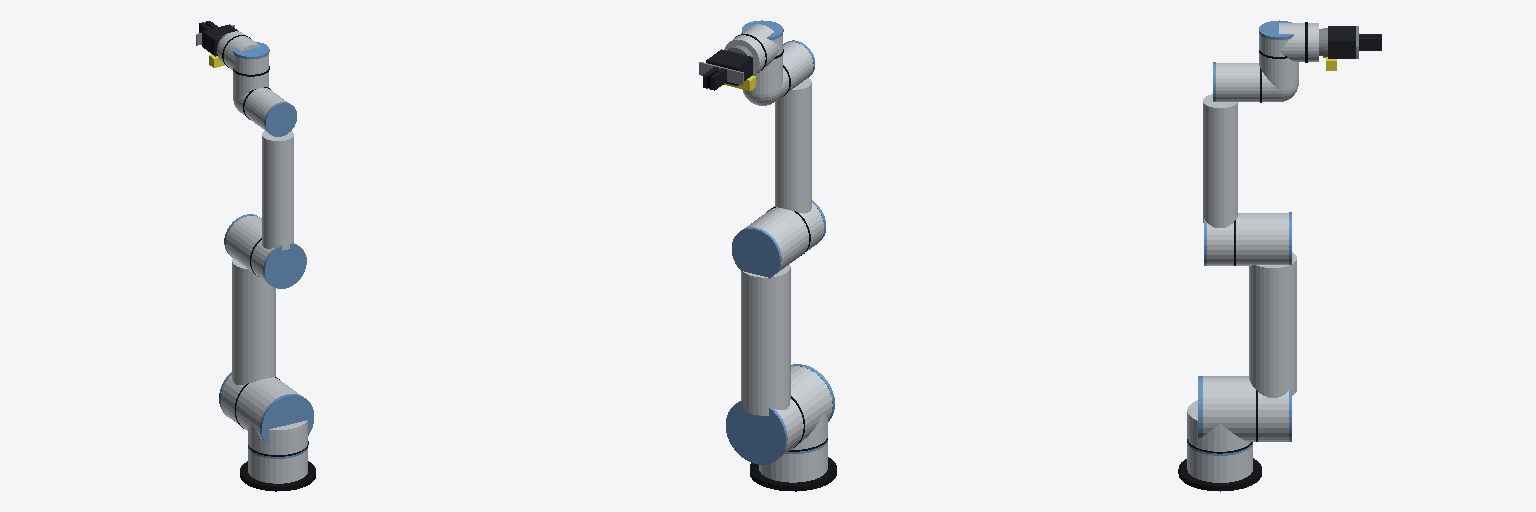
URDF robot description (nora_arm):
<?xml version="1.0"?>
<!--
  NORA arm - UR5e-style 6-DOF manipulator for the web digital twin.

  Kinematics follow the UR5e (d1 = 0.1625, a2 = 0.425, a3 = 0.3922,
  d4 = 0.1333, d5 = 0.0997, d6 = 0.0996) but are expressed in a
  "straight-up" zero pose: with every joint at 0 the arm points vertically
  and the tool flange faces sideways (+Y).

    joint1  shoulder pan   (Z)
    joint2  shoulder lift  (Y)
    joint3  elbow          (Y)
    joint4  wrist 1        (Y)
    joint5  wrist 2        (Z, along wrist link)
    joint6  wrist 3        (tool roll)
    gripper_joint          finger stroke (0 = closed, 0.085 = fully open)

  Top-down tool pose: joint2 + joint3 + joint4 = pi/2 and joint5 = -pi/2.
  Geometry is primitive-only (no meshes) so it loads anywhere.
-->
<robot name="nora_arm">
  <material name="ur_aluminium"><color rgba="0.80 0.82 0.84 1.0"/></material>
  <material name="ur_cap"><color rgba="0.45 0.62 0.80 1.0"/></material>
  <material name="ur_seal"><color rgba="0.10 0.11 0.12 1.0"/></material>
  <material name="steel"><color rgba="0.55 0.57 0.60 1.0"/></material>
  <material name="gripper_body"><color rgba="0.16 0.17 0.19 1.0"/></material>
  <material name="gripper_pad"><color rgba="0.06 0.06 0.07 1.0"/></material>

  <!-- ============================ Base ============================ -->
  <link name="base_link">
    <!-- mounting plate -->
    <visual>
      <origin xyz="0 0 0.006" rpy="0 0 0"/>
      <geometry><cylinder radius="0.095" length="0.012"/></geometry>
      <material name="ur_seal"/>
    </visual>
    <!-- base housing -->
    <visual>
      <origin xyz="0 0 0.046" rpy="0 0 0"/>
      <geometry><cylinder radius="0.075" length="0.068"/></geometry>
      <material name="ur_aluminium"/>
    </visual>
    <!-- base joint cap ring -->
    <visual>
      <origin xyz="0 0 0.083" rpy="0 0 0"/>
      <geometry><cylinder radius="0.0755" length="0.006"/></geometry>
      <material name="ur_cap"/>
    </visual>
    <collision>
      <origin xyz="0 0 0.043" rpy="0 0 0"/>
      <geometry><cylinder radius="0.095" length="0.086"/></geometry>
    </collision>
  </link>

  <joint name="joint1" type="revolute">
    <parent link="base_link"/>
    <child link="link1"/>
    <origin xyz="0 0 0.086" rpy="0 0 0"/>
    <axis xyz="0 0 1"/>
    <limit lower="-6.2832" upper="6.2832" effort="150.0" velocity="3.14"/>
  </joint>

  <!-- ====================== Shoulder (link1) ====================== -->
  <link name="link1">
    <!-- seal ring between base and shoulder -->
    <visual>
      <origin xyz="0 0 0.002" rpy="0 0 0"/>
      <geometry><cylinder radius="0.076" length="0.004"/></geometry>
      <material name="ur_seal"/>
    </visual>
    <!-- vertical shoulder drum -->
    <visual>
      <origin xyz="0 0 0.0383" rpy="0 0 0"/>
      <geometry><cylinder radius="0.075" length="0.0685"/></geometry>
      <material name="ur_aluminium"/>
    </visual>
    <!-- horizontal shoulder-lift motor drum -->
    <visual>
      <origin xyz="0 0.020 0.0765" rpy="1.5708 0 0"/>
      <geometry><cylinder radius="0.075" length="0.12"/></geometry>
      <material name="ur_aluminium"/>
    </visual>
    <!-- shoulder-lift end cap -->
    <visual>
      <origin xyz="0 -0.045 0.0765" rpy="1.5708 0 0"/>
      <geometry><cylinder radius="0.0755" length="0.010"/></geometry>
      <material name="ur_cap"/>
    </visual>
    <collision>
      <origin xyz="0 0.020 0.0765" rpy="1.5708 0 0"/>
      <geometry><cylinder radius="0.075" length="0.13"/></geometry>
    </collision>
  </link>

  <joint name="joint2" type="revolute">
    <parent link="link1"/>
    <child link="link2"/>
    <origin xyz="0 0 0.0765" rpy="0 0 0"/>
    <axis xyz="0 1 0"/>
    <limit lower="-6.2832" upper="6.2832" effort="150.0" velocity="3.14"/>
  </joint>

  <!-- ===================== Upper arm (link2) ====================== -->
  <link name="link2">
    <!-- seal ring at shoulder -->
    <visual>
      <origin xyz="0 0.0825 0" rpy="1.5708 0 0"/>
      <geometry><cylinder radius="0.076" length="0.005"/></geometry>
      <material name="ur_seal"/>
    </visual>
    <!-- outer shoulder drum -->
    <visual>
      <origin xyz="0 0.120 0" rpy="1.5708 0 0"/>
      <geometry><cylinder radius="0.075" length="0.070"/></geometry>
      <material name="ur_aluminium"/>
    </visual>
    <visual>
      <origin xyz="0 0.159 0" rpy="1.5708 0 0"/>
      <geometry><cylinder radius="0.0755" length="0.008"/></geometry>
      <material name="ur_cap"/>
    </visual>
    <!-- upper arm tube -->
    <visual>
      <origin xyz="0 0.120 0.2125" rpy="0 0 0"/>
      <geometry><cylinder radius="0.054" length="0.33"/></geometry>
      <material name="ur_aluminium"/>
    </visual>
    <!-- elbow drum (outer half) -->
    <visual>
      <origin xyz="0 0.095 0.425" rpy="1.5708 0 0"/>
      <geometry><cylinder radius="0.060" length="0.120"/></geometry>
      <material name="ur_aluminium"/>
    </visual>
    <visual>
      <origin xyz="0 0.159 0.425" rpy="1.5708 0 0"/>
      <geometry><cylinder radius="0.0605" length="0.008"/></geometry>
      <material name="ur_cap"/>
    </visual>
    <collision>
      <origin xyz="0 0.120 0.2125" rpy="0 0 0"/>
      <geometry><cylinder radius="0.06" length="0.55"/></geometry>
    </collision>
  </link>

  <joint name="joint3" type="revolute">
    <parent link="link2"/>
    <child link="link3"/>
    <origin xyz="0 0 0.425" rpy="0 0 0"/>
    <axis xyz="0 1 0"/>
    <limit lower="-3.1416" upper="3.1416" effort="150.0" velocity="3.14"/>
  </joint>

  <!-- ====================== Forearm (link3) ======================= -->
  <link name="link3">
    <!-- seal ring at elbow -->
    <visual>
      <origin xyz="0 0.0325 0" rpy="1.5708 0 0"/>
      <geometry><cylinder radius="0.061" length="0.005"/></geometry>
      <material name="ur_seal"/>
    </visual>
    <!-- inner elbow drum -->
    <visual>
      <origin xyz="0 0.0 0" rpy="1.5708 0 0"/>
      <geometry><cylinder radius="0.060" length="0.060"/></geometry>
      <material name="ur_aluminium"/>
    </visual>
    <visual>
      <origin xyz="0 -0.034 0" rpy="1.5708 0 0"/>
      <geometry><cylinder radius="0.0605" length="0.008"/></geometry>
      <material name="ur_cap"/>
    </visual>
    <!-- forearm tube, slight taper toward the wrist -->
    <visual>
      <origin xyz="0 0 0.196" rpy="0 0 0"/>
      <geometry><cylinder radius="0.040" length="0.30"/></geometry>
      <material name="ur_aluminium"/>
    </visual>
    <!-- wrist 1 drum (inner half) -->
    <visual>
      <origin xyz="0 0.040 0.3922" rpy="1.5708 0 0"/>
      <geometry><cylinder radius="0.045" length="0.100"/></geometry>
      <material name="ur_aluminium"/>
    </visual>
    <visual>
      <origin xyz="0 -0.0135 0.3922" rpy="1.5708 0 0"/>
      <geometry><cylinder radius="0.0455" length="0.007"/></geometry>
      <material name="ur_cap"/>
    </visual>
    <collision>
      <origin xyz="0 0 0.196" rpy="0 0 0"/>
      <geometry><cylinder radius="0.045" length="0.48"/></geometry>
    </collision>
  </link>

  <joint name="joint4" type="revolute">
    <parent link="link3"/>
    <child link="link4"/>
    <origin xyz="0 0 0.3922" rpy="0 0 0"/>
    <axis xyz="0 1 0"/>
    <limit lower="-6.2832" upper="6.2832" effort="28.0" velocity="3.14"/>
  </joint>

  <!-- ======================= Wrist 1 (link4) ====================== -->
  <link name="link4">
    <visual>
      <origin xyz="0 0.0925 0" rpy="1.5708 0 0"/>
      <geometry><cylinder radius="0.046" length="0.005"/></geometry>
      <material name="ur_seal"/>
    </visual>
    <!-- outer wrist 1 drum -->
    <visual>
      <origin xyz="0 0.1140 0" rpy="1.5708 0 0"/>
      <geometry><cylinder radius="0.045" length="0.039"/></geometry>
      <material name="ur_aluminium"/>
    </visual>
    <!-- rounded elbow of the L-shaped wrist housing -->
    <visual>
      <origin xyz="0 0.1333 0" rpy="0 0 0"/>
      <geometry><sphere radius="0.045"/></geometry>
      <material name="ur_aluminium"/>
    </visual>
    <!-- riser toward wrist 2 -->
    <visual>
      <origin xyz="0 0.1333 0.040" rpy="0 0 0"/>
      <geometry><cylinder radius="0.045" length="0.080"/></geometry>
      <material name="ur_aluminium"/>
    </visual>
    <collision>
      <origin xyz="0 0.1333 0.040" rpy="0 0 0"/>
      <geometry><cylinder radius="0.045" length="0.10"/></geometry>
    </collision>
  </link>

  <joint name="joint5" type="revolute">
    <parent link="link4"/>
    <child link="link5"/>
    <origin xyz="0 0.1333 0.0997" rpy="0 0 0"/>
    <axis xyz="0 0 1"/>
    <limit lower="-6.2832" upper="6.2832" effort="28.0" velocity="3.14"/>
  </joint>

  <!-- ======================= Wrist 2 (link5) ====================== -->
  <link name="link5">
    <visual>
      <origin xyz="0 0 -0.0175" rpy="0 0 0"/>
      <geometry><cylinder radius="0.046" length="0.005"/></geometry>
      <material name="ur_seal"/>
    </visual>
    <!-- wrist 2 drum -->
    <visual>
      <origin xyz="0 0 0.006" rpy="0 0 0"/>
      <geometry><cylinder radius="0.045" length="0.042"/></geometry>
      <material name="ur_aluminium"/>
    </visual>
    <visual>
      <origin xyz="0 0 0.0305" rpy="0 0 0"/>
      <geometry><cylinder radius="0.0455" length="0.007"/></geometry>
      <material name="ur_cap"/>
    </visual>
    <!-- branch toward wrist 3 -->
    <visual>
      <origin xyz="0 0.030 0" rpy="1.5708 0 0"/>
      <geometry><cylinder radius="0.045" length="0.060"/></geometry>
      <material name="ur_aluminium"/>
    </visual>
    <collision>
      <origin xyz="0 0.030 0" rpy="1.5708 0 0"/>
      <geometry><cylinder radius="0.045" length="0.09"/></geometry>
    </collision>
  </link>

  <joint name="joint6" type="revolute">
    <parent link="link5"/>
    <child link="link6"/>
    <origin xyz="0 0.0596 0" rpy="-1.5708 0 0"/>
    <axis xyz="0 0 1"/>
    <limit lower="-6.2832" upper="6.2832" effort="28.0" velocity="3.14"/>
  </joint>

  <!-- ===================== Wrist 3 / flange (link6) =============== -->
  <link name="link6">
    <visual>
      <origin xyz="0 0 0.0025" rpy="0 0 0"/>
      <geometry><cylinder radius="0.046" length="0.005"/></geometry>
      <material name="ur_seal"/>
    </visual>
    <visual>
      <origin xyz="0 0 0.018" rpy="0 0 0"/>
      <geometry><cylinder radius="0.045" length="0.026"/></geometry>
      <material name="ur_aluminium"/>
    </visual>
    <!-- ISO tool flange -->
    <visual>
      <origin xyz="0 0 0.035" rpy="0 0 0"/>
      <geometry><cylinder radius="0.0315" length="0.008"/></geometry>
      <material name="steel"/>
    </visual>
    <collision>
      <origin xyz="0 0 0.02" rpy="0 0 0"/>
      <geometry><cylinder radius="0.045" length="0.04"/></geometry>
    </collision>
  </link>

  <joint name="gripper_mount_joint" type="fixed">
    <parent link="link6"/>
    <child link="gripper_link"/>
    <origin xyz="0 0 0.039" rpy="0 0 0"/>
  </joint>

  <!-- ================= Parallel-jaw gripper (gripper_link) ========= -->
  <!-- TCP (between finger pads) is at z = 0.115 in this frame. gripper_joint = distance between the pad faces. -->
  <link name="gripper_link">
    <!-- coupling -->
    <visual>
      <origin xyz="0 0 0.006" rpy="0 0 0"/>
      <geometry><cylinder radius="0.034" length="0.012"/></geometry>
      <material name="steel"/>
    </visual>
    <!-- gripper body -->
    <visual>
      <origin xyz="0 0 0.0445" rpy="0 0 0"/>
      <geometry><box size="0.078 0.044 0.065"/></geometry>
      <material name="gripper_body"/>
    </visual>
    <!-- finger guide rail -->
    <visual>
      <origin xyz="0 0 0.0795" rpy="0 0 0"/>
      <geometry><box size="0.110 0.030 0.005"/></geometry>
      <material name="steel"/>
    </visual>
    <collision>
      <origin xyz="0 0 0.040" rpy="0 0 0"/>
      <geometry><box size="0.11 0.044 0.08"/></geometry>
    </collision>
  </link>

  <!-- Driver joint: value = total opening stroke. Fingers mimic it. -->
  <joint name="gripper_joint" type="prismatic">
    <parent link="gripper_link"/>
    <child link="gripper_driver_link"/>
    <origin xyz="0 0 0.08" rpy="0 0 0"/>
    <axis xyz="1 0 0"/>
    <limit lower="0.0" upper="0.085" effort="50.0" velocity="0.15"/>
  </joint>
  <link name="gripper_driver_link"/>

  <joint name="left_finger_joint" type="prismatic">
    <parent link="gripper_link"/>
    <child link="left_finger_link"/>
    <origin xyz="-0.0055 0 0.082" rpy="0 0 0"/>
    <axis xyz="1 0 0"/>
    <limit lower="-0.05" upper="0.0" effort="50.0" velocity="0.15"/>
    <mimic joint="gripper_joint" multiplier="-0.5" offset="0"/>
  </joint>

  <link name="left_finger_link">
    <visual>
      <origin xyz="-0.004 0 0.026" rpy="0 0 0"/>
      <geometry><box size="0.012 0.030 0.052"/></geometry>
      <material name="gripper_body"/>
    </visual>
    <visual>
      <origin xyz="0.0035 0 0.034" rpy="0 0 0"/>
      <geometry><box size="0.004 0.026 0.036"/></geometry>
      <material name="gripper_pad"/>
    </visual>
    <collision>
      <origin xyz="0 0 0.026" rpy="0 0 0"/>
      <geometry><box size="0.016 0.030 0.052"/></geometry>
    </collision>
  </link>

  <joint name="right_finger_joint" type="prismatic">
    <parent link="gripper_link"/>
    <child link="right_finger_link"/>
    <origin xyz="0.0055 0 0.082" rpy="0 0 0"/>
    <axis xyz="1 0 0"/>
    <limit lower="0.0" upper="0.05" effort="50.0" velocity="0.15"/>
    <mimic joint="gripper_joint" multiplier="0.5" offset="0"/>
  </joint>

  <link name="right_finger_link">
    <visual>
      <origin xyz="0.004 0 0.026" rpy="0 0 0"/>
      <geometry><box size="0.012 0.030 0.052"/></geometry>
      <material name="gripper_body"/>
    </visual>
    <visual>
      <origin xyz="-0.0035 0 0.034" rpy="0 0 0"/>
      <geometry><box size="0.004 0.026 0.036"/></geometry>
      <material name="gripper_pad"/>
    </visual>
    <collision>
      <origin xyz="0 0 0.026" rpy="0 0 0"/>
      <geometry><box size="0.016 0.030 0.052"/></geometry>
    </collision>
  </link>

  <!-- ===================================================================
       Eye-in-Hand RGB-D Camera (Intel RealSense D435) for Foxglove & ROS 2
  ==================================================================== -->
  <joint name="camera_mount_joint" type="fixed">
    <parent link="gripper_link"/>
    <child link="camera_link"/>
    <origin xyz="0 0.038 0.02" rpy="0 0 0"/>
  </joint>

  <link name="camera_link">
    <visual>
      <origin xyz="0 0 0" rpy="0 0 0"/>
      <geometry>
        <box size="0.09 0.025 0.025"/>
      </geometry>
      <material name="dark_grey"/>
    </visual>
    <collision>
      <origin xyz="0 0 0" rpy="0 0 0"/>
      <geometry>
        <box size="0.09 0.025 0.025"/>
      </geometry>
    </collision>
  </link>

  <joint name="camera_color_joint" type="fixed">
    <parent link="camera_link"/>
    <child link="camera_color_frame"/>
    <origin xyz="0.015 0 0" rpy="0 0 0"/>
  </joint>
  <link name="camera_color_frame"/>

  <joint name="camera_color_optical_joint" type="fixed">
    <parent link="camera_color_frame"/>
    <child link="camera_color_optical_frame"/>
    <origin xyz="0 0 0" rpy="-1.5707963 0 -1.5707963"/>
  </joint>
  <link name="camera_color_optical_frame"/>

  <joint name="camera_depth_joint" type="fixed">
    <parent link="camera_link"/>
    <child link="camera_depth_frame"/>
    <origin xyz="-0.015 0 0" rpy="0 0 0"/>
  </joint>
  <link name="camera_depth_frame"/>

  <joint name="camera_depth_optical_joint" type="fixed">
    <parent link="camera_depth_frame"/>
    <child link="camera_depth_optical_frame"/>
    <origin xyz="0 0 0" rpy="-1.5707963 0 -1.5707963"/>
  </joint>
  <link name="camera_depth_optical_frame"/>
</robot>

--- Render facts (derived) ---
3 views of the same robot in one strip: view 1: azimuth 30°, elevation 25°; view 2: azimuth 150°, elevation 25°; view 3: azimuth 270°, elevation 25° (orthographic).
Robot: nora_arm — 16 links, 15 joints (6 revolute, 3 prismatic, 6 fixed); root link base_link; default pose: all joints at 0.
Visible links, largest first — view 1: link3, link2, link1, base_link, link5, link4, gripper_link; view 2: link2, link3, base_link, link1, link4, gripper_link, link5, link6; view 3: link2, link3, link1, base_link, link5, link4, gripper_link, link6.
Link boxes in pixels (box(x1,y1,x2,y2)): link3: box(244, 88, 306, 288); link2: box(219, 214, 279, 428); link1: box(236, 377, 313, 456); base_link: box(240, 447, 315, 491); link5: box(224, 36, 269, 76); link4: box(233, 71, 270, 119); gripper_link: box(196, 24, 238, 56); link2: box(726, 207, 808, 464); link3: box(767, 40, 825, 255); base_link: box(750, 440, 836, 491); link1: box(788, 364, 834, 451); link4: box(742, 55, 790, 105); gripper_link: box(699, 46, 752, 85); link5: box(740, 20, 783, 67); link6: box(724, 34, 766, 75); link2: box(1236, 212, 1296, 441); link3: box(1203, 62, 1259, 265); link1: box(1187, 376, 1255, 453); base_link: box(1178, 442, 1261, 491); link5: box(1259, 20, 1304, 61); link4: box(1259, 53, 1298, 102); gripper_link: box(1323, 26, 1358, 58); link6: box(1305, 22, 1322, 62).
Size in the robot's own frame: 0.19 by 0.4609 by 1.13 metres.
Geometry: primitives only (box / cylinder / sphere), no mesh files.
